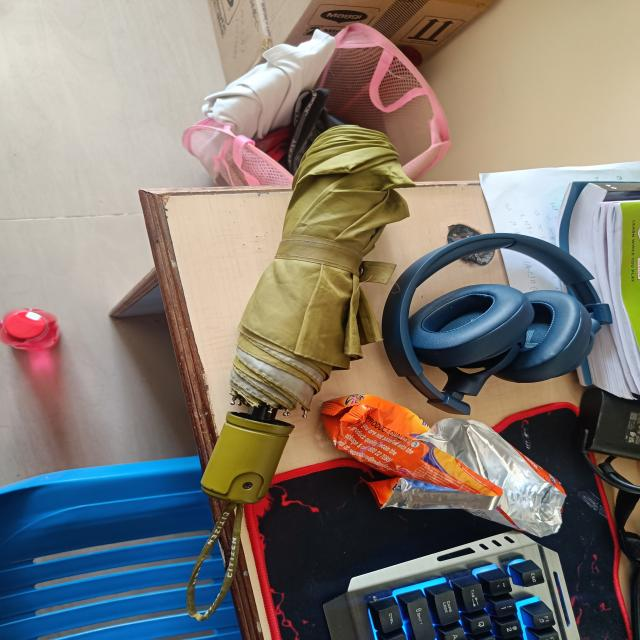umbrella: (206, 125, 419, 505)
